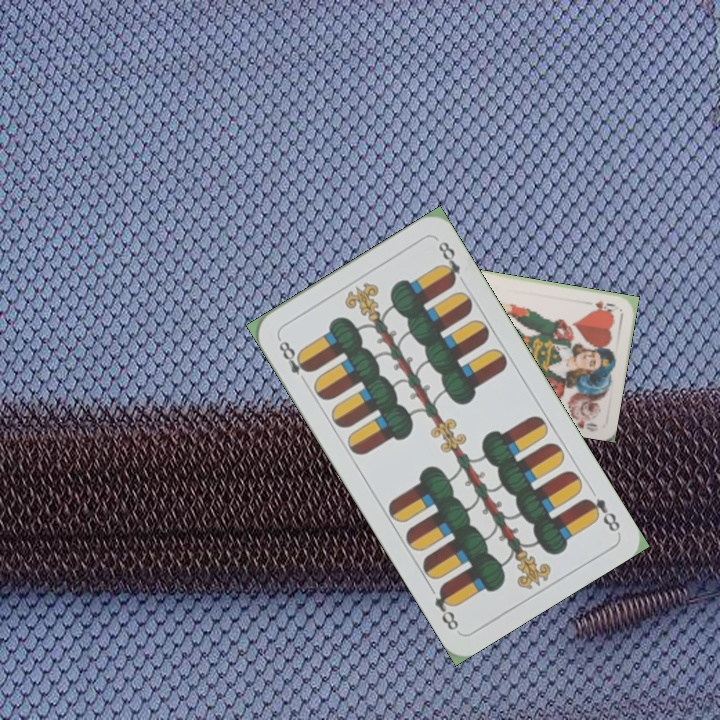E8: (274, 333, 314, 387), (579, 493, 623, 535)
HO: (591, 296, 618, 315)
